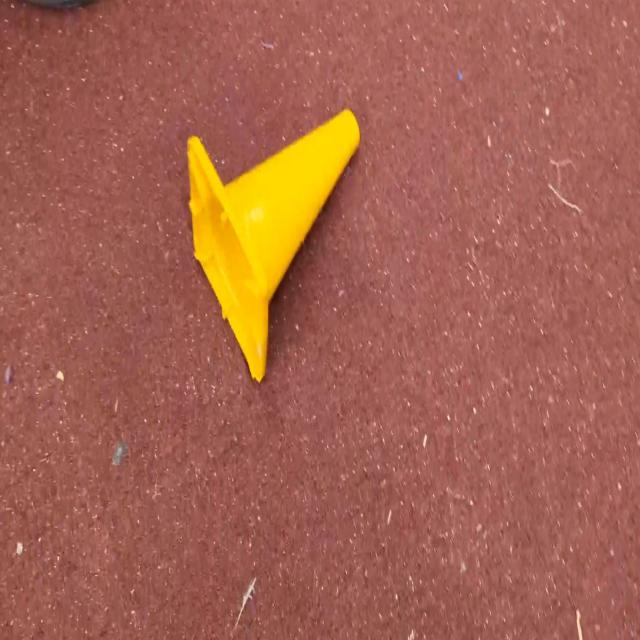frc_cone: (186, 110, 362, 381)
